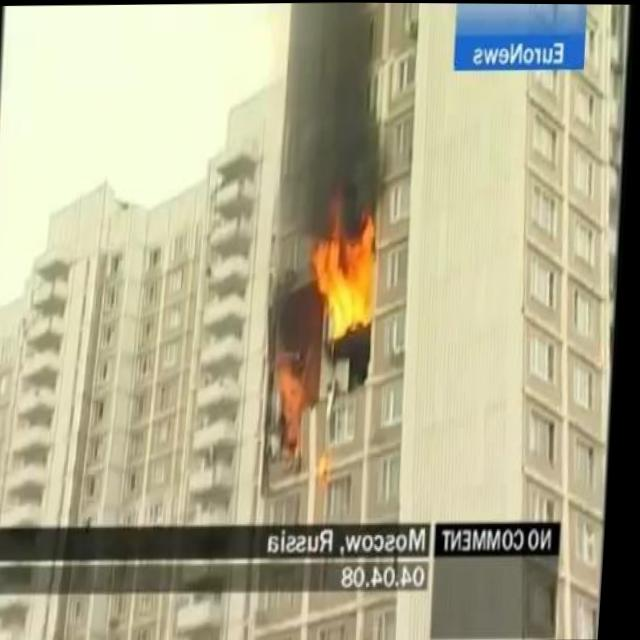fire: (309, 193, 386, 338), (274, 344, 316, 441)
